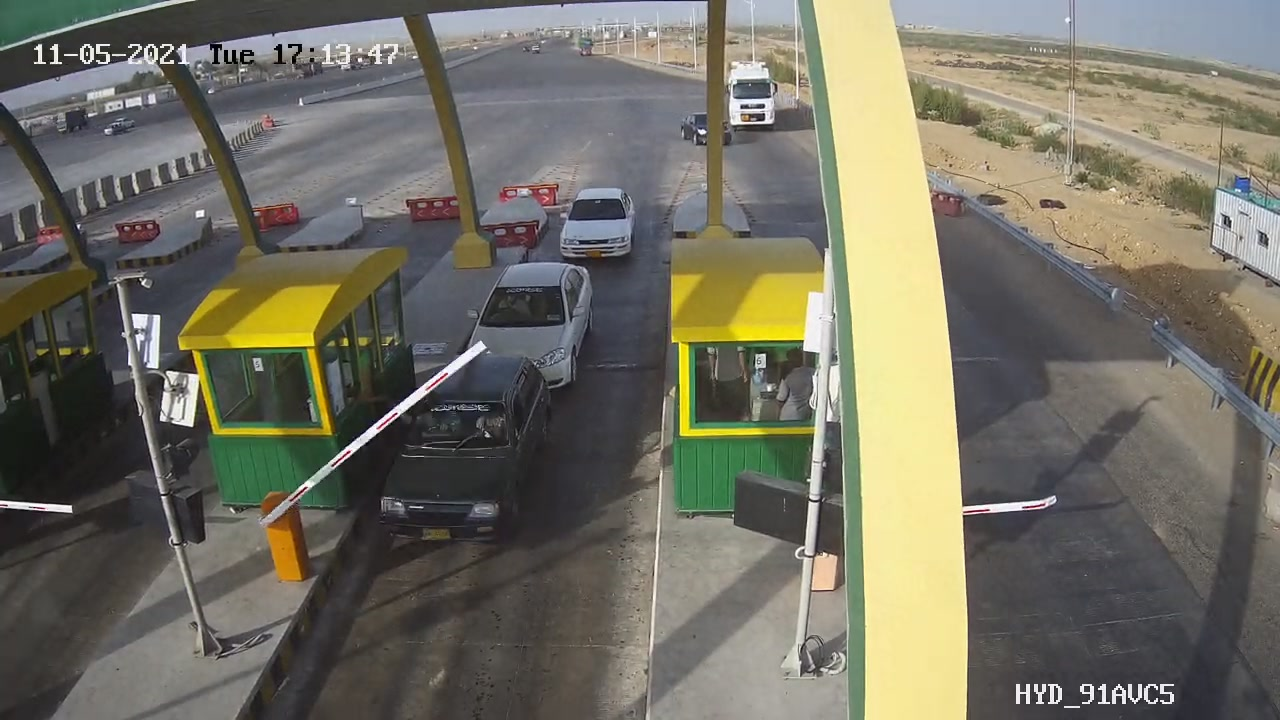F1: (360, 343, 566, 560), (453, 251, 616, 413), (543, 181, 651, 275)
